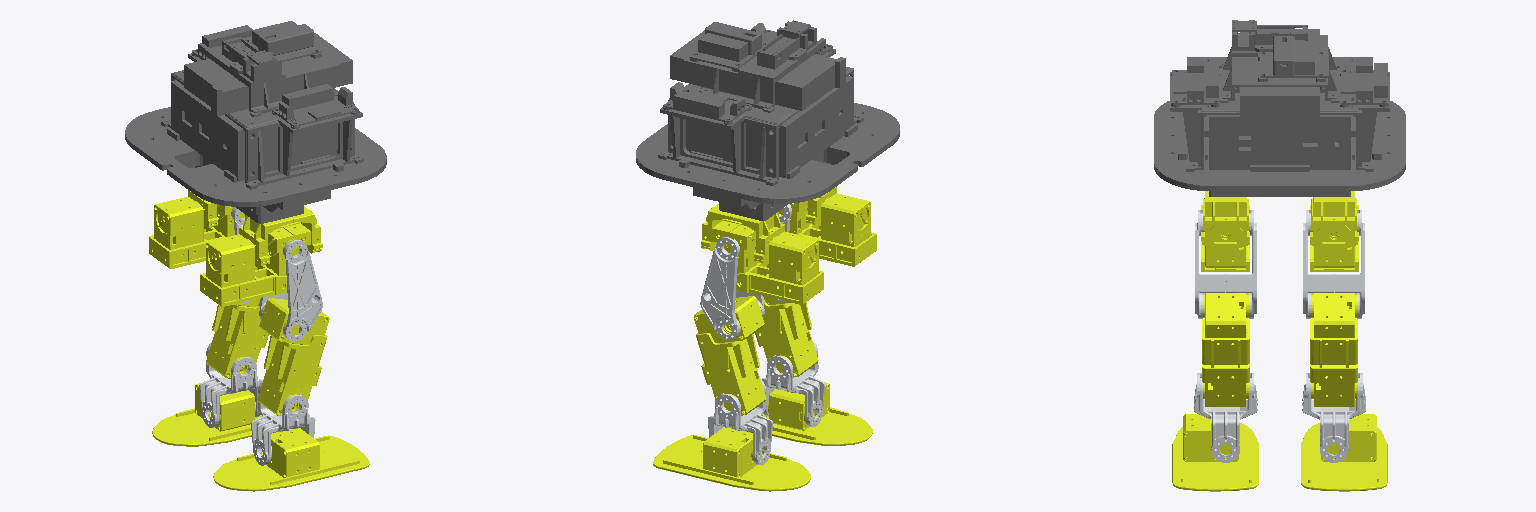
robot.urdf — exhx5_w_b_16:
<?xml version="1.0" encoding="utf-8"?>
<!-- This URDF was automatically created by SolidWorks to URDF Exporter! Originally created by [author] ([email redacted]) 
     Commit Version: 1.5.1-0-g916b5db  Build Version: 1.5.7152.31018
     For more information, please see http://wiki.ros.org/sw_urdf_exporter -->
<robot
  name="exhx5_w_b_16">
  <link
    name="body_link">
    <inertial>
      <origin
        xyz="0.00043545 0.00025536 0.10071"
        rpy="0 0 0" />
      <mass
        value="1.8238" />
      <inertia
        ixx="0.0025905"
        ixy="-5.6852E-06"
        ixz="-1.3106E-05"
        iyy="0.0024595"
        iyz="-1.261E-06"
        izz="0.0046407" />
    </inertial>
    <visual>
      <origin
        xyz="0 0 0"
        rpy="0 0 0" />
      <geometry>
        <mesh
          filename="../meshes/body_link.STL" />
      </geometry>
      <material
        name="">
        <color
          rgba="0.49804 0.49804 0.49804 1" />
      </material>
    </visual>
    <collision>
      <origin
        xyz="0 0 0"
        rpy="0 0 0" />
      <geometry>
        <mesh
          filename="../meshes/body_link.STL" />
      </geometry>
    </collision>
  </link>

  <link
    name="imu_link">
    <inertial>
      <origin
        xyz="-0.008387 1.336E-17 -0.0069463"
        rpy="0 0 0" />
      <mass
        value="0.0062931" />
      <inertia
        ixx="3.2242E-07"
        ixy="3.3527E-22"
        ixz="-6.9193E-08"
        iyy="9.2229E-07"
        iyz="-8.0392E-22"
        izz="1.1018E-06" />
    </inertial>
    <visual>
      <origin
        xyz="0 0 0"
        rpy="0 0 0" />
      <geometry>
        <mesh
          filename="../meshes/imu_link.STL" />
      </geometry>
      <material
        name="">
        <color
          rgba="0.79216 0.81961 0.93333 1" />
      </material>
    </visual>
    <collision>
      <origin
        xyz="0 0 0"
        rpy="0 0 0" />
      <geometry>
        <mesh
          filename="../meshes/imu_link.STL" />
      </geometry>
    </collision>
  </link>
  <joint
    name="imu"
    type="fixed">
    <origin
      xyz="0 0 0.0492"
      rpy="0 0 0" />
    <parent
      link="body_link" />
    <child
      link="imu_link" />
    <axis
      xyz="0 0 0" />
    <limit
      lower="-3.14"
      upper="3.14"
      effort="4"
      velocity="4" />
  </joint>
  <link
    name="l_hip_g_link">
    <inertial>
      <origin
        xyz="-0.0043797 -8.6604E-08 0.011813"
        rpy="0 0 0" />
      <mass
        value="0.061008" />
      <inertia
        ixx="1.167E-05"
        ixy="7.1767E-11"
        ixz="9.1442E-09"
        iyy="2.2342E-05"
        iyz="2.5177E-11"
        izz="2.4892E-05" />
    </inertial>
    <visual>
      <origin
        xyz="0 0 0"
        rpy="0 0 0" />
      <geometry>
        <mesh
          filename="../meshes/l_hip_g_link.STL" />
      </geometry>
      <material
        name="">
        <color
          rgba="0.9451 1 0.18431 1" />
      </material>
    </visual>
    <collision>
      <origin
        xyz="0 0 0"
        rpy="0 0 0" />
      <geometry>
        <mesh
          filename="../meshes/l_hip_g_link.STL" />
      </geometry>
    </collision>
  </link>
  <joint
    name="l_hip_g"
    type="fixed">
    <origin
      xyz="-.003 0.045 0"
      rpy="0 0 0" />
    <parent
      link="body_link" />
    <child
      link="l_hip_g_link" />
    <axis
      xyz="0 0 0" />
  </joint>
  <link
    name="l_hip_roll_link">
    <inertial>
      <origin
        xyz="0.013831 0.00033457 0.025453"
        rpy="0 0 0" />
      <mass
        value="0.2969" />
      <inertia
        ixx="7.8136E-05"
        ixy="7.265E-07"
        ixz="-6.9809E-08"
        iyy="9.2183E-05"
        iyz="-5.6881E-11"
        izz="7.1034E-05" />
    </inertial>
    <visual>
      <origin
        xyz="0 0 0"
        rpy="0 0 0" />
      <geometry>
        <mesh
          filename="../meshes/l_hip_roll_link.STL" />
      </geometry>
      <material
        name="">
        <color
          rgba="0.9451 1 0.18431 1" />
      </material>
    </visual>
    <collision>
      <origin
        xyz="0 0 0"
        rpy="0 0 0" />
      <geometry>
        <mesh
          filename="../meshes/l_hip_roll_link.STL" />
      </geometry>
    </collision>
  </link>
  <joint
    name="l_hip_roll"
    type="revolute">
    <origin
      xyz="0 0 0"
      rpy="3.1416 1.5708 0" />
    <parent
      link="l_hip_g_link" />
    <child
      link="l_hip_roll_link" />
    <axis
      xyz="0 0 1" />
    <limit
      lower="-3.14"
      upper="3.14"
      effort="4"
      velocity="4" />
  </joint>
  <link
    name="l_hip_pitch_link">
    <inertial>
      <origin
        xyz="0.041225 -0.007321 -5.0713E-08"
        rpy="0 0 0" />
      <mass
        value="0.051592" />
      <inertia
        ixx="2.7959E-05"
        ixy="2.0752E-06"
        ixz="-8.0934E-11"
        iyy="4.8156E-05"
        iyz="3.6317E-11"
        izz="2.9604E-05" />
    </inertial>
    <visual>
      <origin
        xyz="0 0 0"
        rpy="0 0 0" />
      <geometry>
        <mesh
          filename="../meshes/l_hip_pitch_link.STL" />
      </geometry>
      <material
        name="">
        <color
          rgba="0.89804 0.91765 0.92941 1" />
      </material>
    </visual>
    <collision>
      <origin
        xyz="0 0 0"
        rpy="0 0 0" />
      <geometry>
        <mesh
          filename="../meshes/l_hip_pitch_link.STL" />
      </geometry>
    </collision>
  </link>
  <joint
    name="l_hip_pitch"
    type="revolute">
    <origin
      xyz="0 0 0"
      rpy="1.5708 0 0" />
    <parent
      link="l_hip_roll_link" />
    <child
      link="l_hip_pitch_link" />
    <axis
      xyz="0 0 1" />
    <limit
      lower="-3.14"
      upper="3.14"
      effort="4"
      velocity="4" />
  </joint>
  <link
    name="l_knee_link">
    <inertial>
      <origin
        xyz="0.033756 -0.0084189 -6.6115E-09"
        rpy="0 0 0" />
      <mass
        value="0.28878" />
      <inertia
        ixx="6.6724E-05"
        ixy="7.5004E-07"
        ixz="-8.4578E-07"
        iyy="6.5699E-05"
        iyz="4.1085E-07"
        izz="7.0381E-05" />
    </inertial>
    <visual>
      <origin
        xyz="0 0 0"
        rpy="0 0 0" />
      <geometry>
        <mesh
          filename="../meshes/l_knee_link.STL" />
      </geometry>
      <material
        name="">
        <color
          rgba="0.9451 1 0.18431 1" />
      </material>
    </visual>
    <collision>
      <origin
        xyz="0 0 0"
        rpy="0 0 0" />
      <geometry>
        <mesh
          filename="../meshes/l_knee_link.STL" />
      </geometry>
    </collision>
  </link>
  <joint
    name="l_knee"
    type="revolute">
    <origin
      xyz="0.075954 0 0"
      rpy="0 0 0" />
    <parent
      link="l_hip_pitch_link" />
    <child
      link="l_knee_link" />
    <axis
      xyz="0 0 1" />
    <limit
      lower="-3.14"
      upper="3.14"
      effort="4"
      velocity="4" />
  </joint>
  <link
    name="l_ank_pitch_link">
    <inertial>
      <origin
        xyz="0.022786 -7.3909E-09 -7.1981E-06"
        rpy="0 0 0" />
      <mass
        value="0.044772" />
      <inertia
        ixx="1.777E-05"
        ixy="8.555E-14"
        ixz="-3.3713E-09"
        iyy="1.7119E-05"
        iyz="1.7593E-11"
        izz="1.8661E-05" />
    </inertial>
    <visual>
      <origin
        xyz="0 0 0"
        rpy="0 0 0" />
      <geometry>
        <mesh
          filename="../meshes/l_ank_pitch_link.STL" />
      </geometry>
      <material
        name="">
        <color
          rgba="0.89804 0.91765 0.92941 1" />
      </material>
    </visual>
    <collision>
      <origin
        xyz="0 0 0"
        rpy="0 0 0" />
      <geometry>
        <mesh
          filename="../meshes/l_ank_pitch_link.STL" />
      </geometry>
    </collision>
  </link>
  <joint
    name="l_ank_pitch"
    type="revolute">
    <origin
      xyz="0.074602 0 0"
      rpy="3.1416 0 0" />
    <parent
      link="l_knee_link" />
    <child
      link="l_ank_pitch_link" />
    <axis
      xyz="0 0 1" />
    <limit
      lower="-3.14"
      upper="3.14"
      effort="4"
      velocity="4" />
  </joint>
  <link
    name="l_ank_roll_link">
    <inertial>
      <origin
        xyz="0.0047069 0.010728 0.0015299"
        rpy="0 0 0" />
      <mass
        value="0.16774" />
      <inertia
        ixx="0.00012039"
        ixy="-3.7428E-09"
        ixz="4.4069E-08"
        iyy="8.7735E-05"
        iyz="7.0469E-07"
        izz="4.7866E-05" />
    </inertial>
    <visual>
      <origin
        xyz="0 0 0"
        rpy="0 0 0" />
      <geometry>
        <mesh
          filename="../meshes/l_ank_roll_link.STL" />
      </geometry>
      <material
        name="">
        <color
          rgba="0.9451 1 0.18431 1" />
      </material>
    </visual>
    <collision>
      <origin
        xyz="0 0 0"
        rpy="0 0 0" />
      <geometry>
        <mesh
          filename="../meshes/l_ank_roll_link.STL" />
      </geometry>
    </collision>
  </link>
  <joint
    name="l_ank_roll"
    type="revolute">
    <origin
      xyz="0.0465 0 0"
      rpy="-1.5708 0 0" />
    <parent
      link="l_ank_pitch_link" />
    <child
      link="l_ank_roll_link" />
    <axis
      xyz="0 0 1" />
    <limit
      lower="-3.14"
      upper="3.14"
      effort="4"
      velocity="4" />
  </joint>
  <link
    name="r_hip_g_link">
    <inertial>
      <origin
        xyz="-0.0043797 -8.6604E-08 0.011813"
        rpy="0 0 0" />
      <mass
        value="0.061008" />
      <inertia
        ixx="1.167E-05"
        ixy="7.1767E-11"
        ixz="9.1442E-09"
        iyy="2.2342E-05"
        iyz="2.5177E-11"
        izz="2.4892E-05" />
    </inertial>
    <visual>
      <origin
        xyz="0 0 0"
        rpy="0 0 0" />
      <geometry>
        <mesh
          filename="../meshes/r_hip_g_link.STL" />
      </geometry>
      <material
        name="">
        <color
          rgba="0.9451 1 0.18431 1" />
      </material>
    </visual>
    <collision>
      <origin
        xyz="0 0 0"
        rpy="0 0 0" />
      <geometry>
        <mesh
          filename="../meshes/r_hip_g_link.STL" />
      </geometry>
    </collision>
  </link>
  <joint
    name="r_hip_g"
    type="fixed">
    <origin
      xyz="-.003 -.045 0"
      rpy="0 0 0" />
    <parent
      link="body_link" />
    <child
      link="r_hip_g_link" />
    <axis
      xyz="0 0 0" />
  </joint>
  <link
    name="r_hip_roll_link">
    <inertial>
      <origin
        xyz="0.013831 0.00033457 0.025453"
        rpy="0 0 0" />
      <mass
        value="0.2969" />
      <inertia
        ixx="7.8136E-05"
        ixy="7.265E-07"
        ixz="-6.9809E-08"
        iyy="9.2183E-05"
        iyz="-5.6881E-11"
        izz="7.1034E-05" />
    </inertial>
    <visual>
      <origin
        xyz="0 0 0"
        rpy="0 0 0" />
      <geometry>
        <mesh
          filename="../meshes/r_hip_roll_link.STL" />
      </geometry>
      <material
        name="">
        <color
          rgba="0.9451 1 0.18431 1" />
      </material>
    </visual>
    <collision>
      <origin
        xyz="0 0 0"
        rpy="0 0 0" />
      <geometry>
        <mesh
          filename="../meshes/r_hip_roll_link.STL" />
      </geometry>
    </collision>
  </link>
  <joint
    name="r_hip_roll"
    type="revolute">
    <origin
      xyz="0 0 0"
      rpy="3.1416 1.5708 0" />
    <parent
      link="r_hip_g_link" />
    <child
      link="r_hip_roll_link" />
    <axis
      xyz="0 0 1" />
    <limit
      lower="-3.14"
      upper="3.14"
      effort="4"
      velocity="4" />
  </joint>
  <link
    name="r_hip_pitch_link">
    <inertial>
      <origin
        xyz="0.041225 0.007321 5.0713E-08"
        rpy="0 0 0" />
      <mass
        value="0.051592" />
      <inertia
        ixx="2.7959E-05"
        ixy="-2.0752E-06"
        ixz="8.0934E-11"
        iyy="4.8156E-05"
        iyz="3.6317E-11"
        izz="2.9604E-05" />
    </inertial>
    <visual>
      <origin
        xyz="0 0 0"
        rpy="0 0 0" />
      <geometry>
        <mesh
          filename="../meshes/r_hip_pitch_link.STL" />
      </geometry>
      <material
        name="">
        <color
          rgba="0.89804 0.91765 0.92941 1" />
      </material>
    </visual>
    <collision>
      <origin
        xyz="0 0 0"
        rpy="0 0 0" />
      <geometry>
        <mesh
          filename="../meshes/r_hip_pitch_link.STL" />
      </geometry>
    </collision>
  </link>
  <joint
    name="r_hip_pitch"
    type="revolute">
    <origin
      xyz="0 0 0"
      rpy="-1.5708 0 0" />
    <parent
      link="r_hip_roll_link" />
    <child
      link="r_hip_pitch_link" />
    <axis
      xyz="0 0 1" />
    <limit
      lower="-3.14"
      upper="3.14"
      effort="4"
      velocity="4" />
  </joint>
  <link
    name="r_knee_link">
    <inertial>
      <origin
        xyz="0.033757 0.0084176 6.6115E-09"
        rpy="0 0 0" />
      <mass
        value="0.28878" />
      <inertia
        ixx="6.6724E-05"
        ixy="-7.5008E-07"
        ixz="8.458E-07"
        iyy="6.5699E-05"
        iyz="4.1081E-07"
        izz="7.0381E-05" />
    </inertial>
    <visual>
      <origin
        xyz="0 0 0"
        rpy="0 0 0" />
      <geometry>
        <mesh
          filename="../meshes/r_knee_link.STL" />
      </geometry>
      <material
        name="">
        <color
          rgba="0.9451 1 0.18431 1" />
      </material>
    </visual>
    <collision>
      <origin
        xyz="0 0 0"
        rpy="0 0 0" />
      <geometry>
        <mesh
          filename="../meshes/r_knee_link.STL" />
      </geometry>
    </collision>
  </link>
  <joint
    name="r_knee"
    type="revolute">
    <origin
      xyz="0.075954 0 0"
      rpy="0 0 0" />
    <parent
      link="r_hip_pitch_link" />
    <child
      link="r_knee_link" />
    <axis
      xyz="0 0 1" />
    <limit
      lower="-3.14"
      upper="3.14"
      effort="4"
      velocity="4" />
  </joint>
  <link
    name="r_ank_pitch_link">
    <inertial>
      <origin
        xyz="0.025786 -7.3887E-09 -7.1981E-06"
        rpy="0 0 0" />
      <mass
        value="0.044772" />
      <inertia
        ixx="1.777E-05"
        ixy="8.5434E-14"
        ixz="-3.3713E-09"
        iyy="1.7119E-05"
        iyz="1.7592E-11"
        izz="1.8661E-05" />
    </inertial>
    <visual>
      <origin
        xyz="0 0 0"
        rpy="0 0 0" />
      <geometry>
        <mesh
          filename="../meshes/r_ank_pitch_link.STL" />
      </geometry>
      <material
        name="">
        <color
          rgba="0.89804 0.91765 0.92941 1" />
      </material>
    </visual>
    <collision>
      <origin
        xyz="0 0 0"
        rpy="0 0 0" />
      <geometry>
        <mesh
          filename="../meshes/r_ank_pitch_link.STL" />
      </geometry>
    </collision>
  </link>
  <joint
    name="r_ank_pitch"
    type="revolute">
    <origin
      xyz="0.071602 0 0"
      rpy="3.1416 0 0" />
    <parent
      link="r_knee_link" />
    <child
      link="r_ank_pitch_link" />
    <axis
      xyz="0 0 1" />
    <limit
      lower="-3.14"
      upper="3.14"
      effort="4"
      velocity="4" />
  </joint>
  <link
    name="r_ank_roll_link">
    <inertial>
      <origin
        xyz="0.0077069 -0.010728 0.0015299"
        rpy="0 0 0" />
      <mass
        value="0.16774" />
      <inertia
        ixx="0.00012039"
        ixy="3.743E-09"
        ixz="4.407E-08"
        iyy="8.7735E-05"
        iyz="-7.0467E-07"
        izz="4.7866E-05" />
    </inertial>
    <visual>
      <origin
        xyz="0 0 0"
        rpy="0 0 0" />
      <geometry>
        <mesh
          filename="../meshes/r_ank_roll_link.STL" />
      </geometry>
      <material
        name="">
        <color
          rgba="0.9451 1 0.18431 1" />
      </material>
    </visual>
    <collision>
      <origin
        xyz="0 0 0"
        rpy="0 0 0" />
      <geometry>
        <mesh
          filename="../meshes/r_ank_roll_link.STL" />
      </geometry>
    </collision>
  </link>
  <joint
    name="r_ank_roll"
    type="revolute">
    <origin
      xyz="0.0465 0 0"
      rpy="1.5708 0 0" />
    <parent
      link="r_ank_pitch_link" />
    <child
      link="r_ank_roll_link" />
    <axis
      xyz="0 0 1" />
    <limit
      lower="-3.14"
      upper="3.14"
      effort="4"
      velocity="4" />
  </joint>
  <transmission name="r_hip_roll_tran">
    <type>transmission_interface/SimpleTransmission</type>
    <joint name="r_hip_roll">
      <hardwareInterface>hardware_interface/EffortJointInterface</hardwareInterface>
    </joint>
    <actuator name="r_hip_roll_motor">
      <hardwareInterface>hardware_interface/EffortJointInterface</hardwareInterface>
      <mechanicalReduction>1</mechanicalReduction>
    </actuator>
  </transmission>
  <transmission name="r_hip_pitch_tran">
    <type>transmission_interface/SimpleTransmission</type>
    <joint name="r_hip_pitch">
      <hardwareInterface>hardware_interface/EffortJointInterface</hardwareInterface>
    </joint>
    <actuator name="r_hip_pitch_motor">
      <hardwareInterface>hardware_interface/EffortJointInterface</hardwareInterface>
      <mechanicalReduction>1</mechanicalReduction>
    </actuator>
  </transmission>
  <transmission name="r_knee_tran">
    <type>transmission_interface/SimpleTransmission</type>
    <joint name="r_knee">
      <hardwareInterface>hardware_interface/EffortJointInterface</hardwareInterface>
    </joint>
    <actuator name="r_knee_motor">
      <hardwareInterface>hardware_interface/EffortJointInterface</hardwareInterface>
      <mechanicalReduction>1</mechanicalReduction>
    </actuator>
  </transmission>
  <transmission name="r_ank_pitch_tran">
    <type>transmission_interface/SimpleTransmission</type>
    <joint name="r_ank_pitch">
      <hardwareInterface>hardware_interface/EffortJointInterface</hardwareInterface>
    </joint>
    <actuator name="r_ank_pitch_motor">
      <hardwareInterface>hardware_interface/EffortJointInterface</hardwareInterface>
      <mechanicalReduction>1</mechanicalReduction>
    </actuator>
  </transmission>
  <transmission name="r_ank_roll_tran">
    <type>transmission_interface/SimpleTransmission</type>
    <joint name="r_ank_roll">
      <hardwareInterface>hardware_interface/EffortJointInterface</hardwareInterface>
    </joint>
    <actuator name="r_ank_roll_motor">
      <hardwareInterface>hardware_interface/EffortJointInterface</hardwareInterface>
      <mechanicalReduction>1</mechanicalReduction>
    </actuator>
  </transmission>
  <transmission name="l_hip_roll_tran">
    <type>transmission_interface/SimpleTransmission</type>
    <joint name="l_hip_roll">
      <hardwareInterface>hardware_interface/EffortJointInterface</hardwareInterface>
    </joint>
    <actuator name="l_hip_roll_motor">
      <hardwareInterface>hardware_interface/EffortJointInterface</hardwareInterface>
      <mechanicalReduction>1</mechanicalReduction>
    </actuator>
  </transmission>
  <transmission name="l_hip_pitch_tran">
    <type>transmission_interface/SimpleTransmission</type>
    <joint name="l_hip_pitch">
      <hardwareInterface>hardware_interface/EffortJointInterface</hardwareInterface>
    </joint>
    <actuator name="l_hip_pitch_motor">
      <hardwareInterface>hardware_interface/EffortJointInterface</hardwareInterface>
      <mechanicalReduction>1</mechanicalReduction>
    </actuator>
  </transmission>
  <transmission name="l_knee_tran">
    <type>transmission_interface/SimpleTransmission</type>
    <joint name="l_knee">
      <hardwareInterface>hardware_interface/EffortJointInterface</hardwareInterface>
    </joint>
    <actuator name="l_knee_motor">
      <hardwareInterface>hardware_interface/EffortJointInterface</hardwareInterface>
      <mechanicalReduction>1</mechanicalReduction>
    </actuator>
  </transmission>
  <transmission name="l_ank_pitch_tran">
    <type>transmission_interface/SimpleTransmission</type>
    <joint name="l_ank_pitch">
      <hardwareInterface>hardware_interface/EffortJointInterface</hardwareInterface>
    </joint>
    <actuator name="l_ank_pitch_motor">
      <hardwareInterface>hardware_interface/EffortJointInterface</hardwareInterface>
      <mechanicalReduction>1</mechanicalReduction>
    </actuator>
  </transmission>
  <transmission name="l_ank_roll_tran">
    <type>transmission_interface/SimpleTransmission</type>
    <joint name="l_ank_roll">
      <hardwareInterface>hardware_interface/EffortJointInterface</hardwareInterface>
    </joint>
    <actuator name="l_ank_roll_motor">
      <hardwareInterface>hardware_interface/EffortJointInterface</hardwareInterface>
      <mechanicalReduction>1</mechanicalReduction>
    </actuator>
  </transmission>
</robot>

--- Render facts (derived) ---
The picture shows the robot from 3 angles, left to right: view 1: azimuth 30°, elevation 25°; view 2: azimuth 150°, elevation 25°; view 3: azimuth 270°, elevation 25°; orthographic projection.
Robot: exhx5_w_b_16 — 14 links, 13 joints (10 revolute, 3 fixed); root link body_link; default pose: all joints at 0.
Visible links, largest first — view 1: body_link, r_ank_roll_link, r_hip_roll_link, r_knee_link, l_hip_roll_link, l_ank_roll_link, l_knee_link, r_hip_pitch_link, r_ank_pitch_link, l_ank_pitch_link, r_hip_g_link; view 2: body_link, l_ank_roll_link, l_hip_roll_link, l_knee_link, r_hip_roll_link, r_ank_roll_link, r_knee_link, l_hip_pitch_link, l_ank_pitch_link, r_ank_pitch_link, l_hip_g_link; view 3: body_link, l_knee_link, r_knee_link, r_ank_roll_link, l_ank_roll_link, l_ank_pitch_link, r_ank_pitch_link, l_hip_pitch_link, r_hip_pitch_link, l_hip_g_link, r_hip_g_link, l_hip_roll_link (+1 smaller).
Boxes of the visible links, bbox=[...] form: body_link: bbox=[125, 21, 386, 223]; r_ank_roll_link: bbox=[213, 428, 369, 491]; r_hip_roll_link: bbox=[200, 222, 310, 306]; r_knee_link: bbox=[257, 298, 329, 415]; l_hip_roll_link: bbox=[149, 197, 244, 268]; l_ank_roll_link: bbox=[152, 383, 261, 446]; l_knee_link: bbox=[206, 298, 268, 378]; r_hip_pitch_link: bbox=[259, 239, 322, 341]; r_ank_pitch_link: bbox=[251, 379, 315, 465]; l_ank_pitch_link: bbox=[199, 342, 262, 427]; r_hip_g_link: bbox=[239, 206, 322, 266]; body_link: bbox=[636, 20, 899, 220]; l_ank_roll_link: bbox=[653, 427, 810, 491]; l_hip_roll_link: bbox=[712, 219, 823, 304]; l_knee_link: bbox=[694, 296, 766, 415]; r_hip_roll_link: bbox=[779, 193, 876, 266]; r_ank_roll_link: bbox=[762, 382, 872, 445]; r_knee_link: bbox=[755, 296, 818, 377]; l_hip_pitch_link: bbox=[700, 237, 764, 340]; l_ank_pitch_link: bbox=[708, 378, 772, 465]; r_ank_pitch_link: bbox=[762, 340, 824, 426]; l_hip_g_link: bbox=[701, 204, 784, 264]; body_link: bbox=[1154, 20, 1405, 196]; l_knee_link: bbox=[1310, 293, 1357, 406]; r_knee_link: bbox=[1202, 293, 1249, 406]; r_ank_roll_link: bbox=[1172, 414, 1258, 491]; l_ank_roll_link: bbox=[1301, 414, 1387, 491]; l_ank_pitch_link: bbox=[1302, 373, 1365, 462]; r_ank_pitch_link: bbox=[1194, 373, 1257, 462]; l_hip_pitch_link: bbox=[1303, 210, 1364, 318]; r_hip_pitch_link: bbox=[1195, 210, 1256, 318]; l_hip_g_link: bbox=[1310, 191, 1358, 246]; r_hip_g_link: bbox=[1201, 191, 1249, 246]; l_hip_roll_link: bbox=[1310, 198, 1358, 271].
Bounding box of the posed robot: 0.185 × 0.21 × 0.3893 m (x, y, z).
14 mesh visuals loaded from 14 distinct referenced files (14 binary STL).
